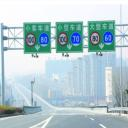speed_limit_100: (25, 32, 37, 48), (56, 31, 68, 47)
speed_limit_120: (90, 30, 101, 47)
